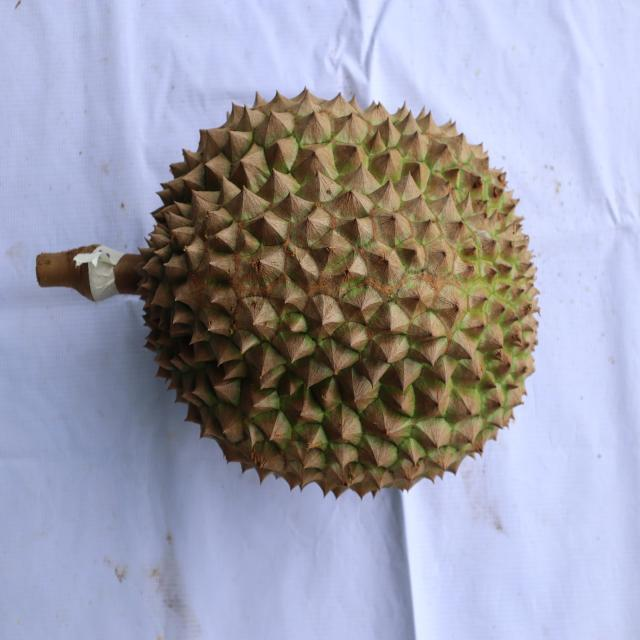mature: (136, 86, 538, 500)
